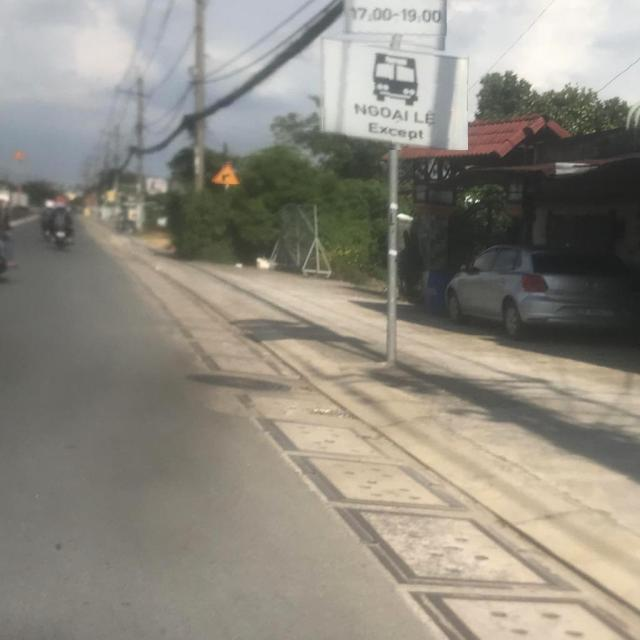cho_ngoat_nguy_hiem_ben_phai: (210, 161, 240, 184)
khac: (320, 41, 468, 150), (343, 0, 447, 48)
